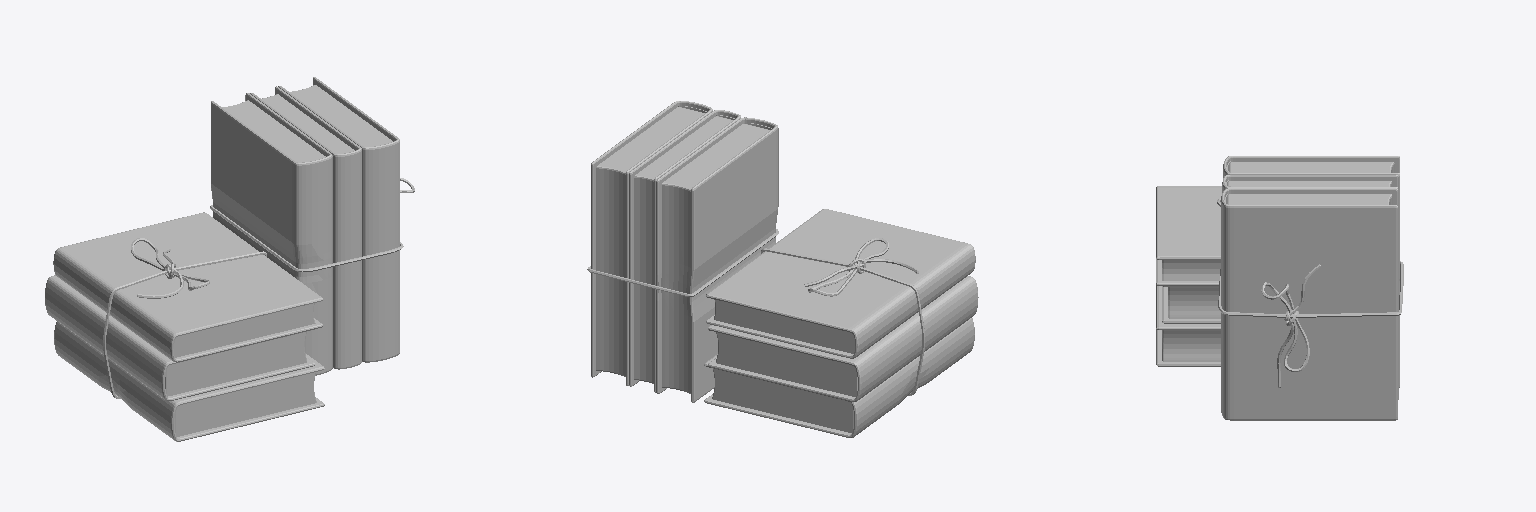
Rendered from OldBook.obj.
3 renders of one model, left to right at view 1: azimuth 30°, elevation 25°; view 2: azimuth 150°, elevation 25°; view 3: azimuth 270°, elevation 25°, orthographic.
Visible parts, largest first — view 1: 2-_book_leather, 10-_UniqueID_60, 8-_UniqueID_6, 0-_Book_blue, 6-_book_brown, 12-_UniqueID_24, 4-_rope2, 14-_UniqueID_42; view 2: 2-_book_leather, 10-_UniqueID_60, 0-_Book_blue, 8-_UniqueID_6, 6-_book_brown, 12-_UniqueID_24, 4-_rope2, 14-_UniqueID_42; view 3: 8-_UniqueID_6, 2-_book_leather, 10-_UniqueID_60, 6-_book_brown, 12-_UniqueID_24, 0-_Book_blue, 14-_UniqueID_42.
Part boxes in pixels (bbox=[...]): 2-_book_leather: bbox=[53, 212, 322, 362]; 10-_UniqueID_60: bbox=[211, 93, 332, 375]; 8-_UniqueID_6: bbox=[278, 77, 399, 362]; 0-_Book_blue: bbox=[45, 275, 314, 400]; 6-_book_brown: bbox=[54, 321, 324, 441]; 12-_UniqueID_24: bbox=[250, 86, 361, 369]; 4-_rope2: bbox=[103, 238, 266, 398]; 14-_UniqueID_42: bbox=[210, 178, 414, 271]; 2-_book_leather: bbox=[706, 209, 975, 358]; 10-_UniqueID_60: bbox=[656, 117, 778, 402]; 0-_Book_blue: bbox=[708, 276, 978, 401]; 8-_UniqueID_6: bbox=[591, 101, 712, 385]; 6-_book_brown: bbox=[704, 318, 974, 437]; 12-_UniqueID_24: bbox=[629, 110, 740, 392]; 4-_rope2: bbox=[761, 238, 924, 395]; 14-_UniqueID_42: bbox=[587, 229, 778, 296]; 8-_UniqueID_6: bbox=[1221, 188, 1397, 420]; 2-_book_leather: bbox=[1156, 186, 1221, 285]; 10-_UniqueID_60: bbox=[1223, 156, 1399, 387]; 6-_book_brown: bbox=[1156, 285, 1220, 366]; 12-_UniqueID_24: bbox=[1222, 174, 1398, 399]; 0-_Book_blue: bbox=[1162, 286, 1220, 323]; 14-_UniqueID_42: bbox=[1218, 261, 1403, 387].
Bounding box in the file's own units: 40.76 × 27.03 × 28.17.